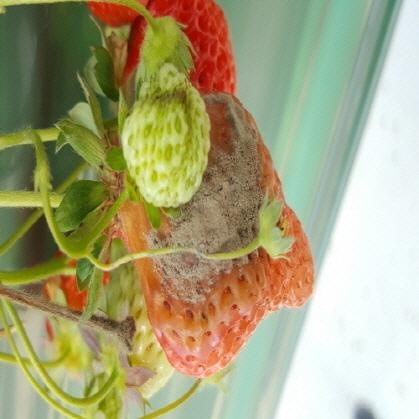Gray Mold: (119, 91, 285, 353)
